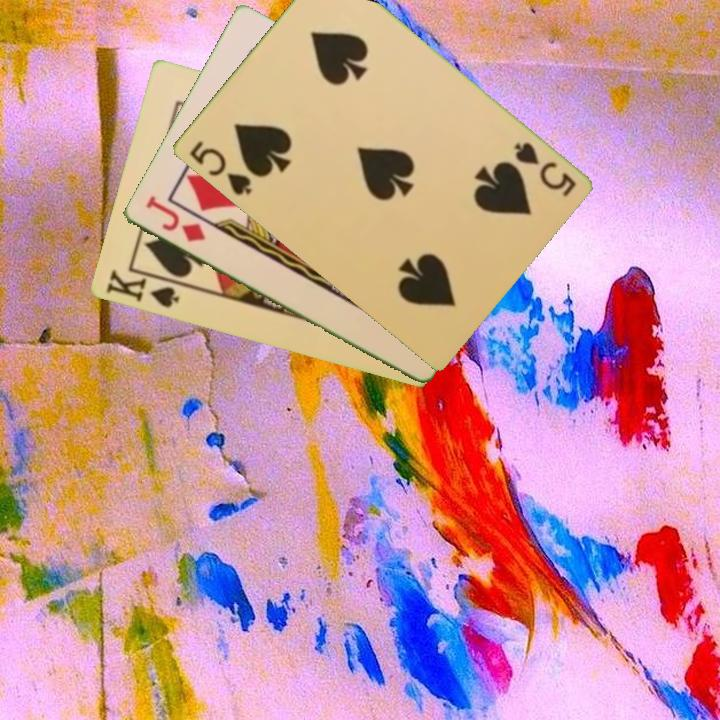5s: (185, 137, 255, 199), (510, 138, 579, 200)
Jd: (141, 192, 208, 246)
Ks: (102, 266, 188, 311)
